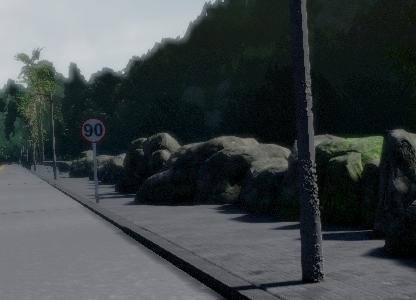Speed_90: (80, 115, 108, 146)
